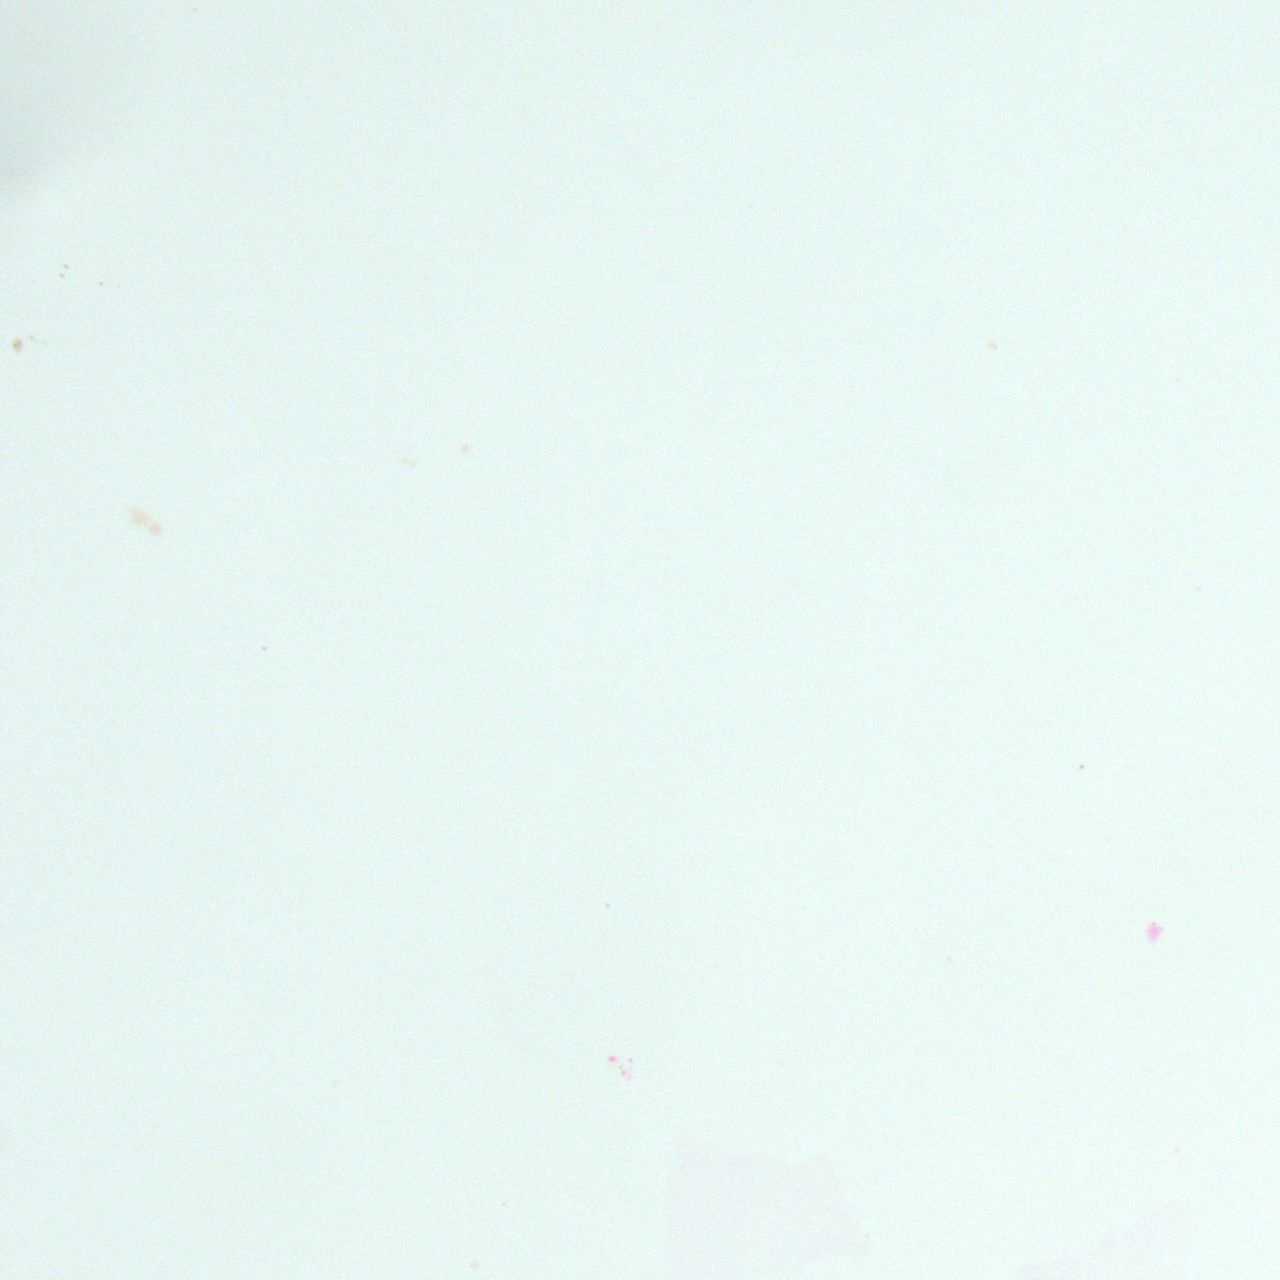dust: (123, 501, 165, 542), (14, 336, 25, 352), (986, 339, 998, 350)
